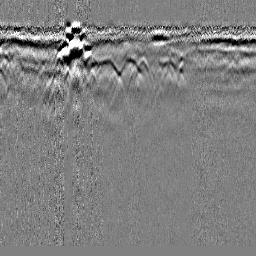cavity: (118, 53, 141, 79)
